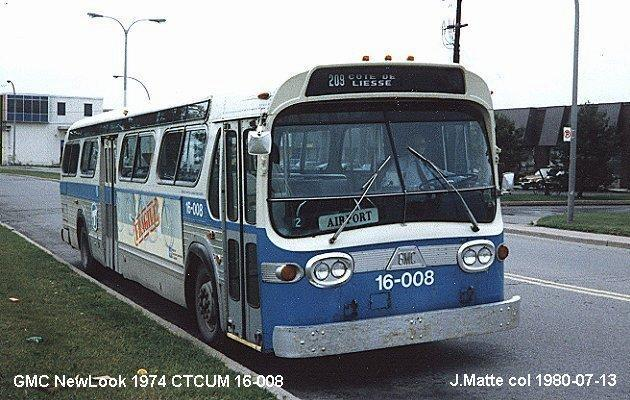Bus: (59, 60, 522, 360)
